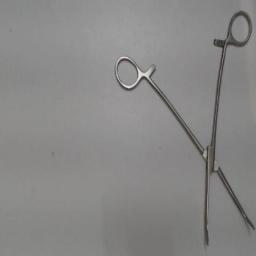Lahey Forceps: (112, 6, 256, 248)
